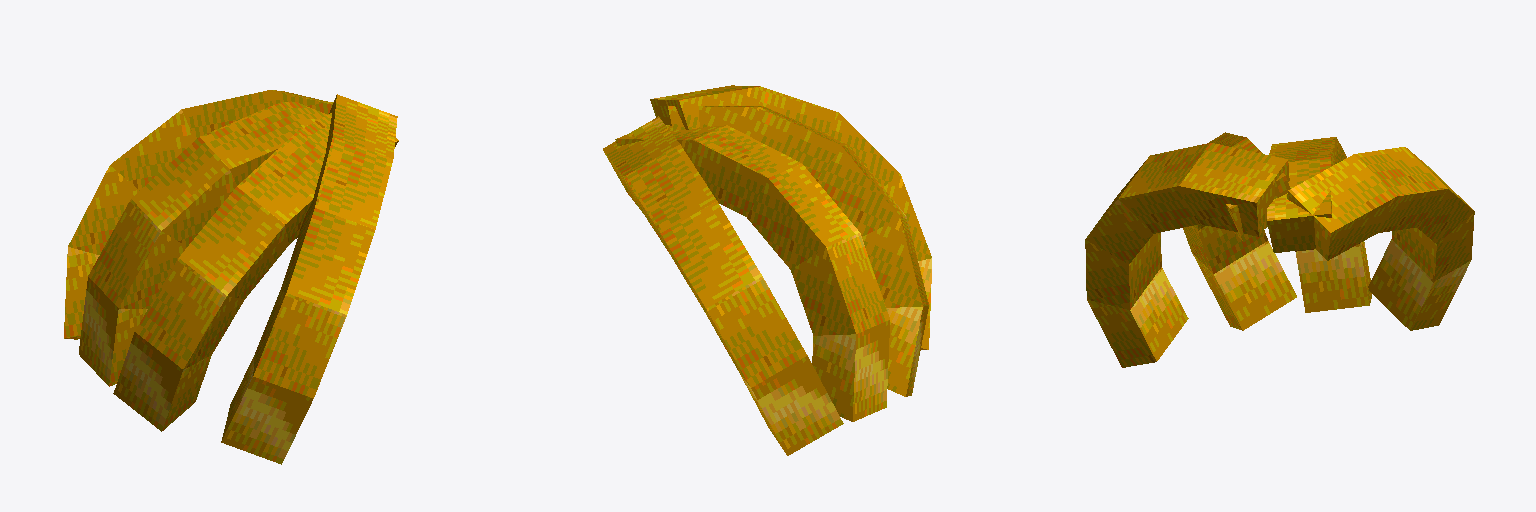
3 views of the same model, side by side, from view 1: azimuth 30°, elevation 25°; view 2: azimuth 150°, elevation 25°; view 3: azimuth 270°, elevation 25° (orthographic).
Parts seen in each view (by area): view 1: bannaObj; view 2: bannaObj; view 3: bannaObj.
Boxes of the visible parts, <box> form: bannaObj: <box>64,90,398,464</box>; bannaObj: <box>603,85,931,455</box>; bannaObj: <box>1085,132,1474,367</box>.
Size of the model in its own units: 0.9156 by 0.861 by 1.1.
Materials: 1 (1 with a texture image).